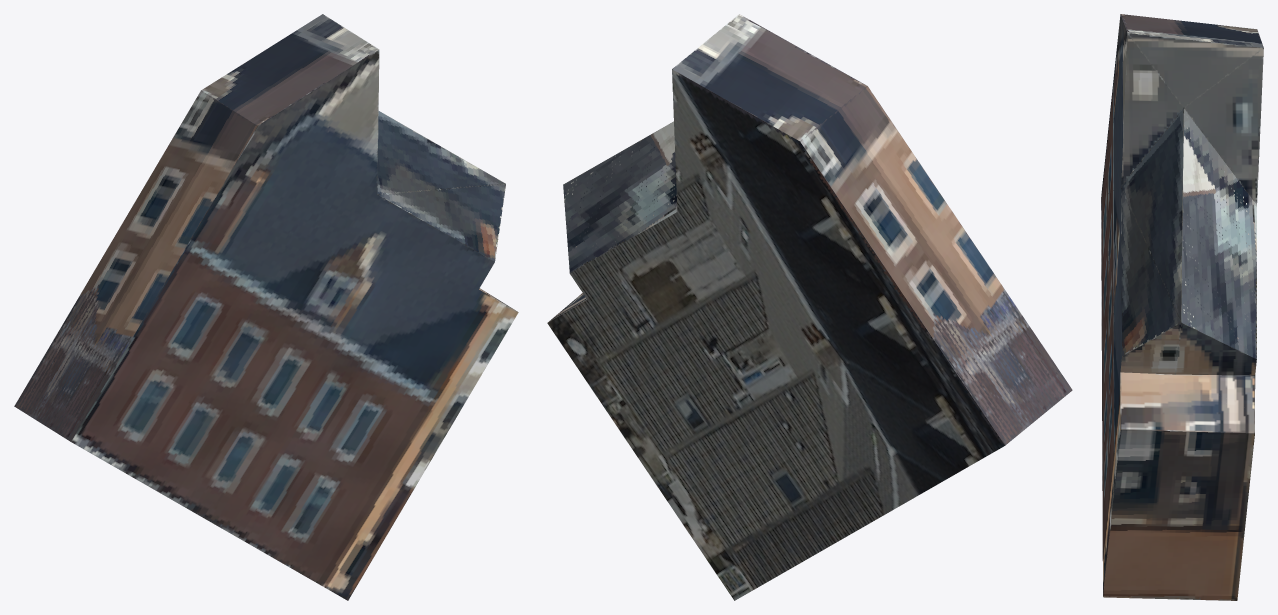
3 views of the same model, side by side, from view 1: azimuth 30°, elevation 25°; view 2: azimuth 150°, elevation 25°; view 3: azimuth 270°, elevation 25° (orthographic). The views are drawn at different scales.
Parts seen in each view (by area): view 1: BAG_0599100000671734; view 2: BAG_0599100000671734; view 3: BAG_0599100000671734 (×4).
Part boxes in pixels (x1,y1,x2,y2): BAG_0599100000671734: [14, 14, 518, 600]; BAG_0599100000671734: [547, 14, 1072, 600]; BAG_0599100000671734 (×4): [1101, 14, 1263, 600].
Bounding box in the file's own units: 20.31 × 22.12 × 5.51.
1 material, 1 textured.
